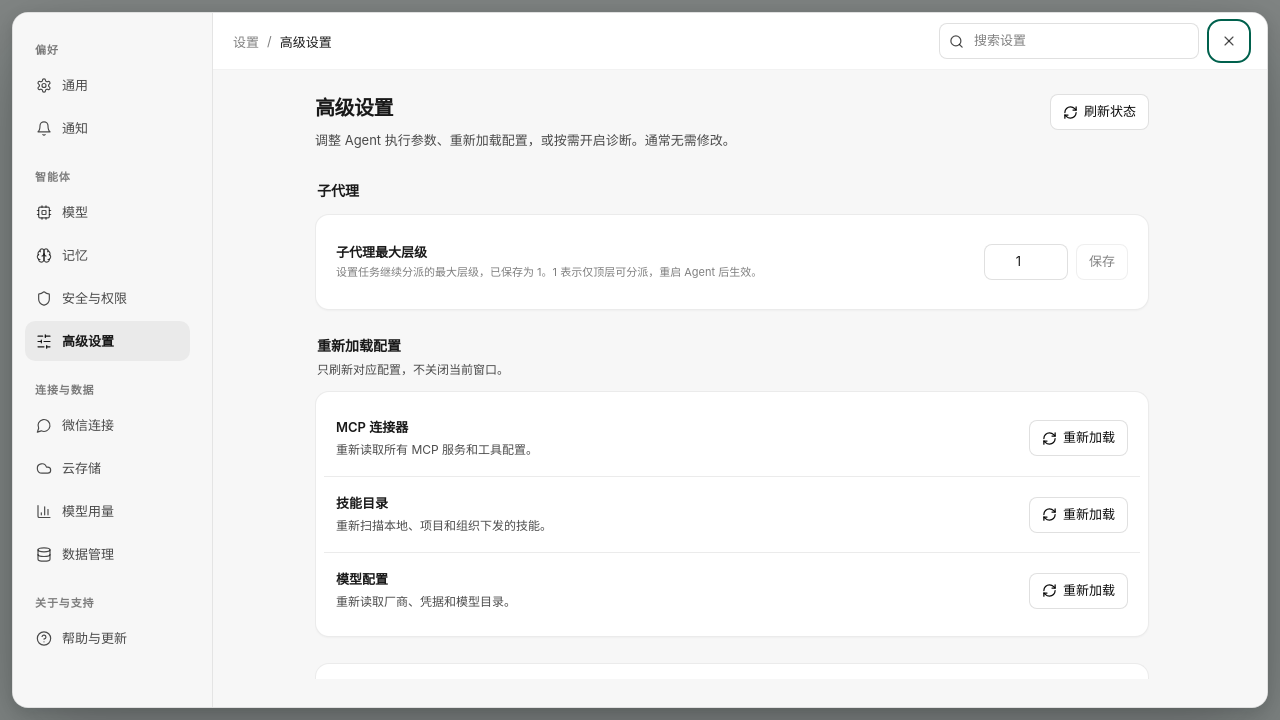
Test case: Settings navigation and search › 并行设置操作全部完成后才清除等待提示并允许离开
Replace the text in the number field named "子代理最大层级" with "3" at (1026, 262), box [984,244,1068,280]
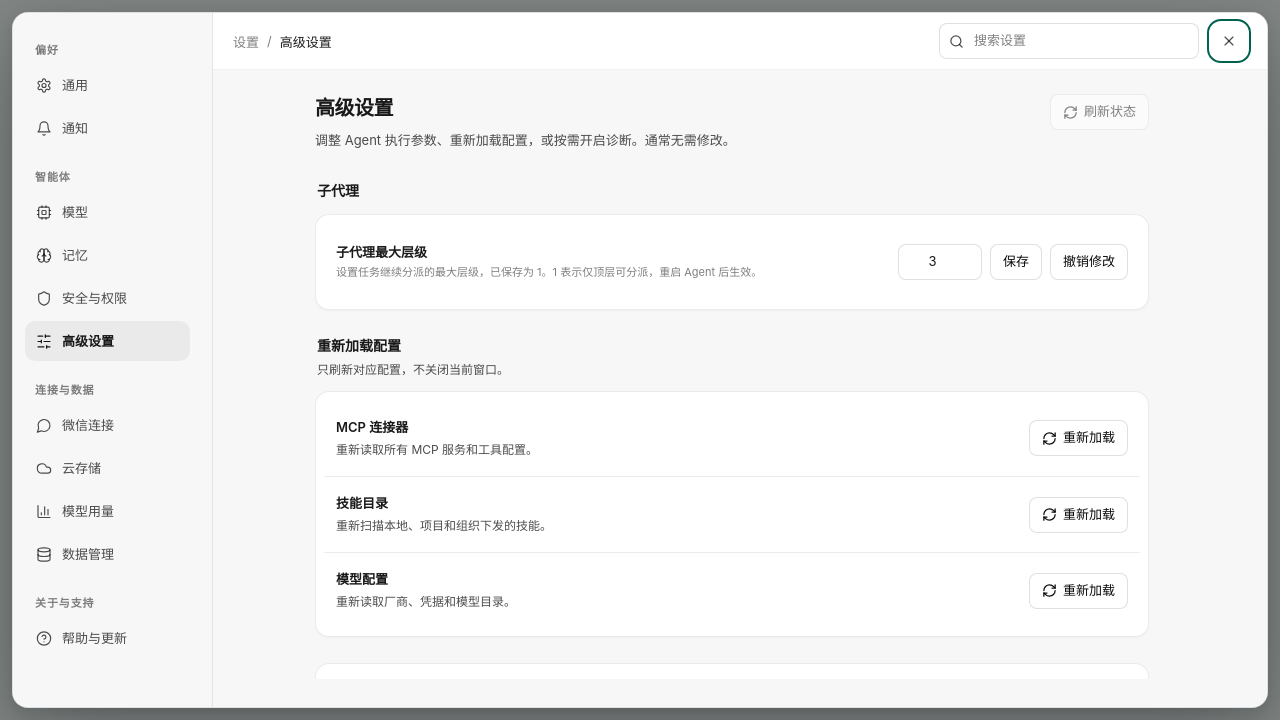
Click the button "保存".
click(1016, 262)  # box [990,244,1042,280]
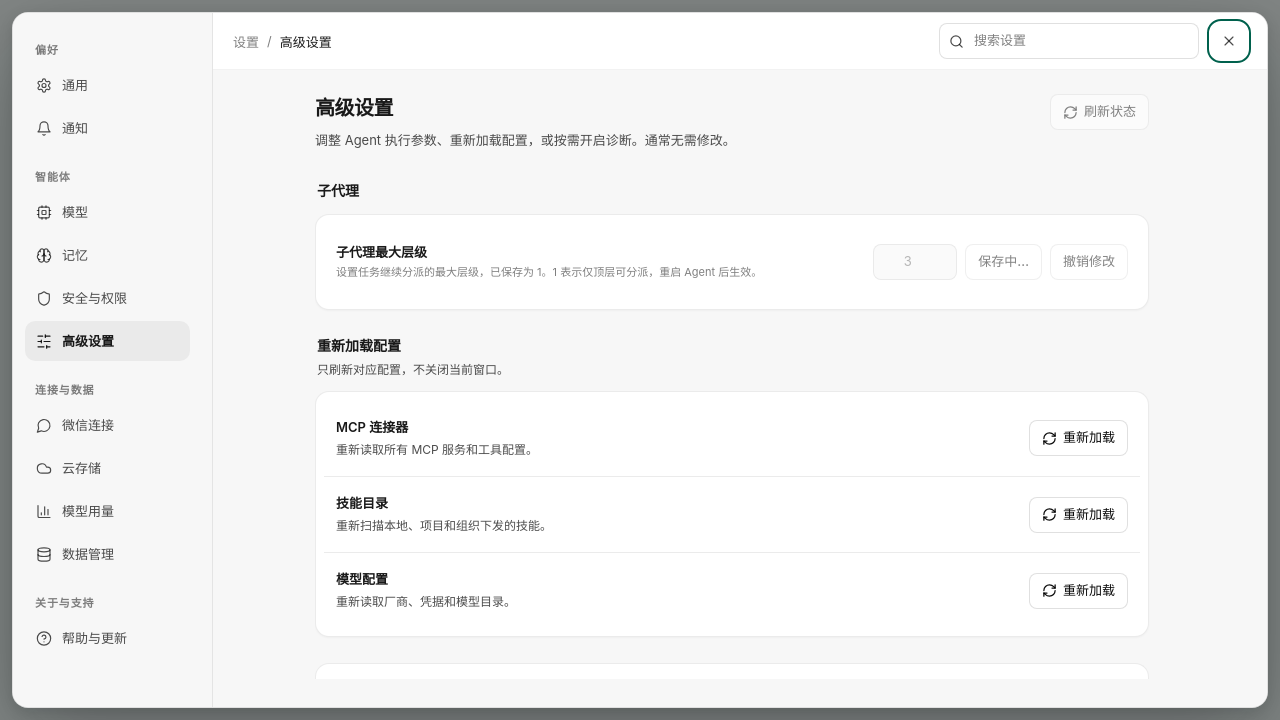
Click the button "重新加载" in the row of "重新读取所有 MCP 服务和工具配置。".
click(1078, 438)  # box [1029,420,1128,456]
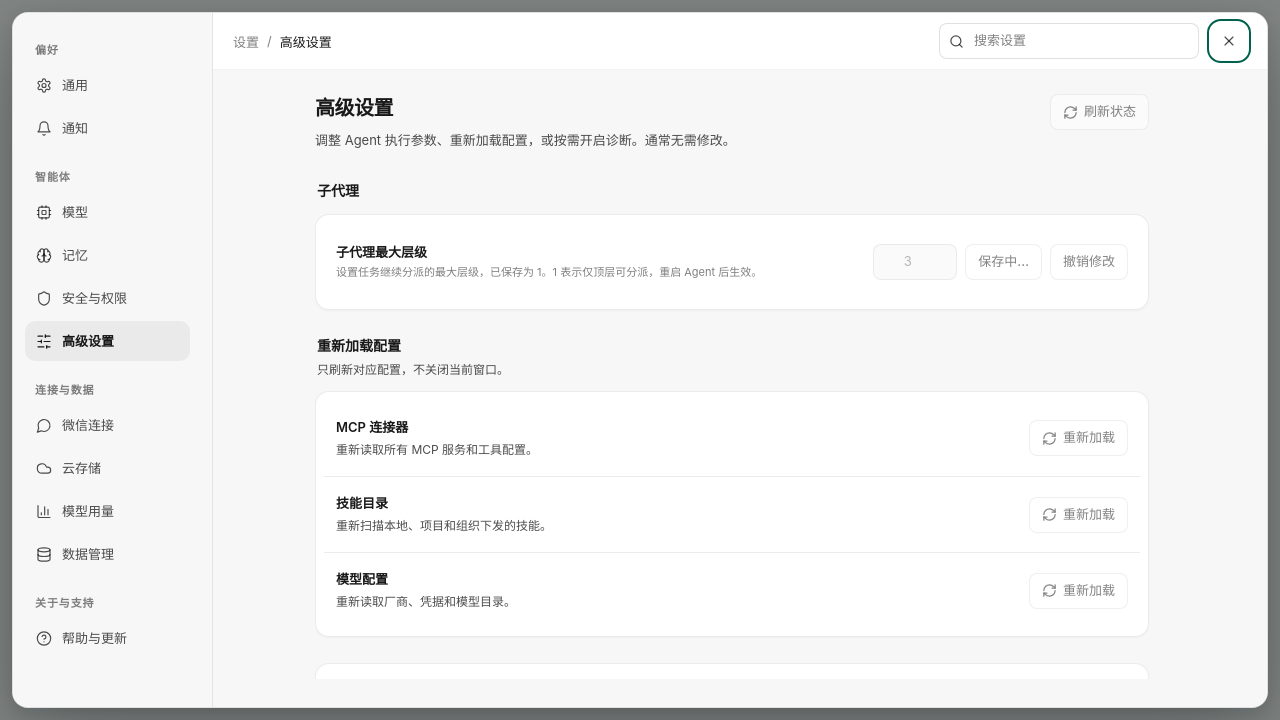
Click the button "通用".
click(108, 85)  # box [25,65,190,105]
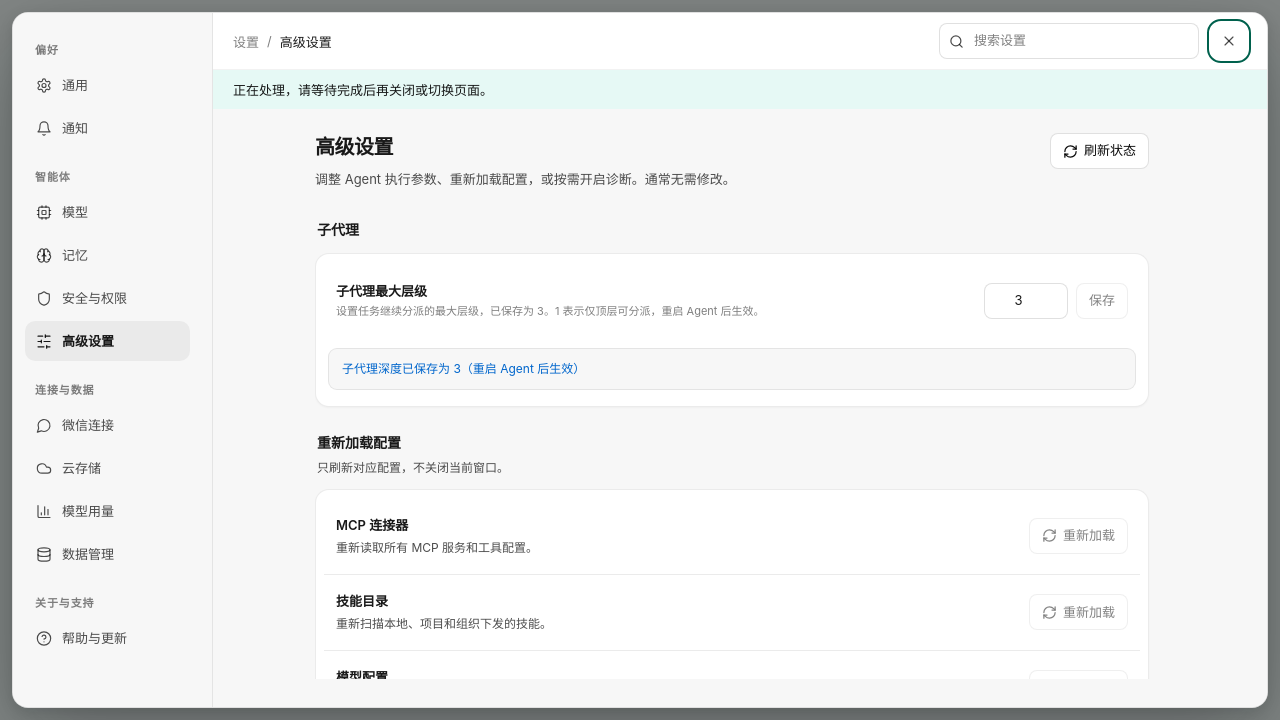
Expected: the text "正在处理，请等待完成后再关闭或切换页面。" is shown, [213,70,1267,109]
Click the button named "关闭设置".
click(1229, 41)  # box [1211,23,1247,59]
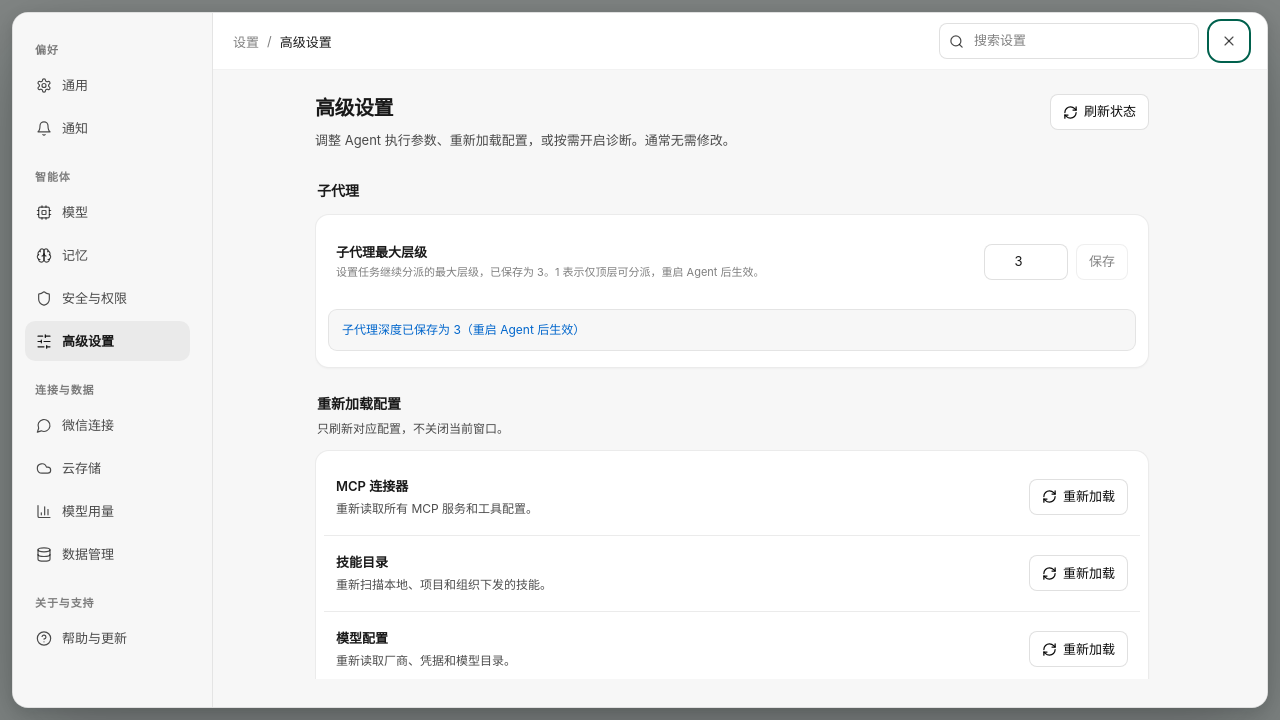
Expected: the text "正在处理，请等待完成" is gone
Click the button "通用".
click(108, 85)  # box [25,65,190,105]
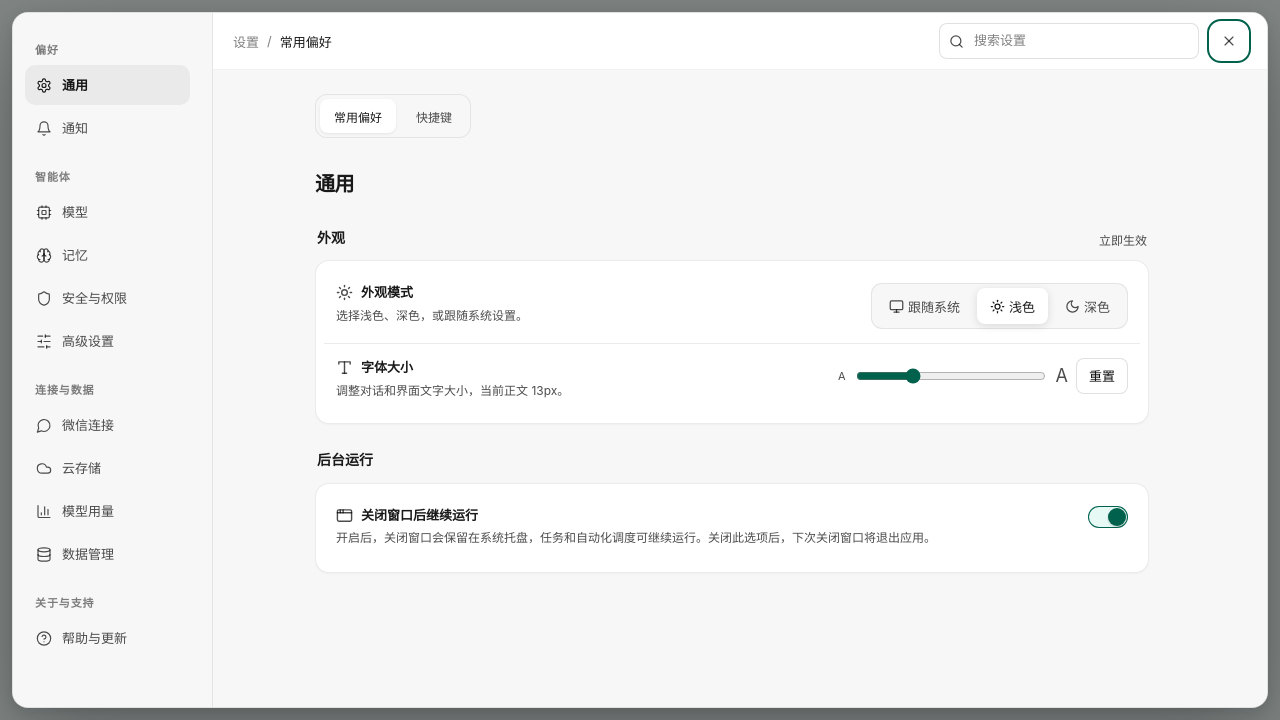
Expected: the heading "通用" is shown, [315,170,354,198]
